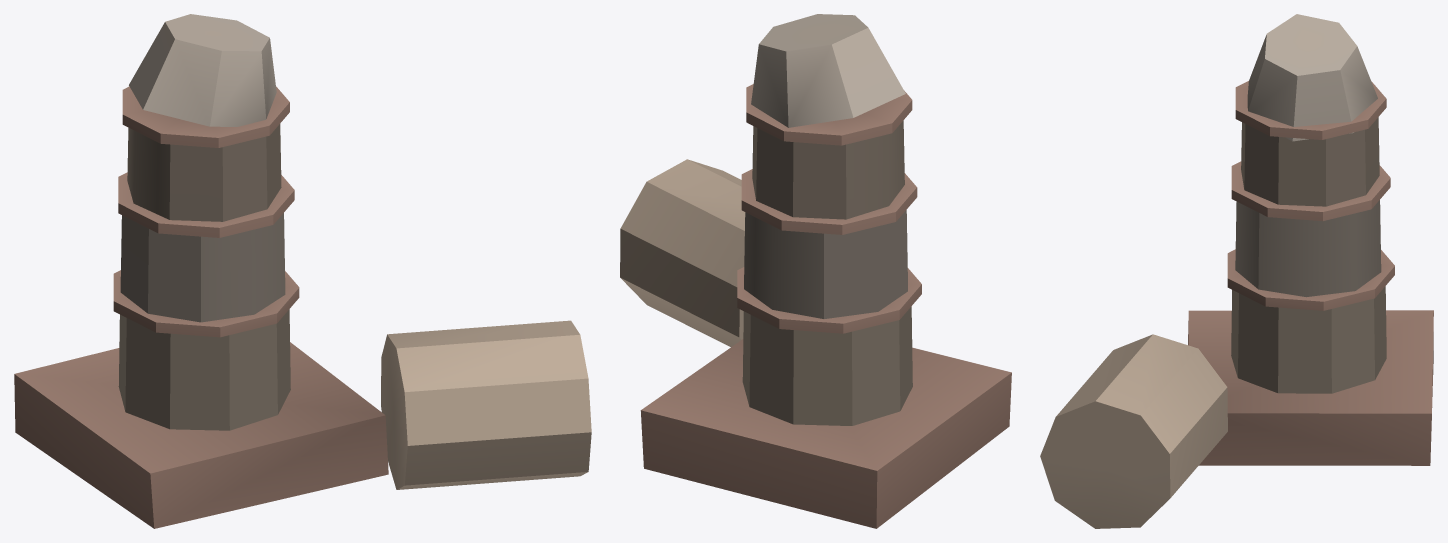
Rendered from pillar_broken.glb.
3 renders of one model, left to right at view 1: azimuth 30°, elevation 25°; view 2: azimuth 150°, elevation 25°; view 3: azimuth 270°, elevation 25°, orthographic. The views are drawn at different scales.
Parts seen in each view (by area): view 1: pillar_broken; view 2: pillar_broken; view 3: pillar_broken.
Part boxes in pixels (bbox=[...]): pillar_broken: bbox=[14, 14, 591, 528]; pillar_broken: bbox=[620, 14, 1011, 528]; pillar_broken: bbox=[1040, 14, 1433, 528].
Bounding box in the file's own units: 2.93 × 2.96 × 2.73.
